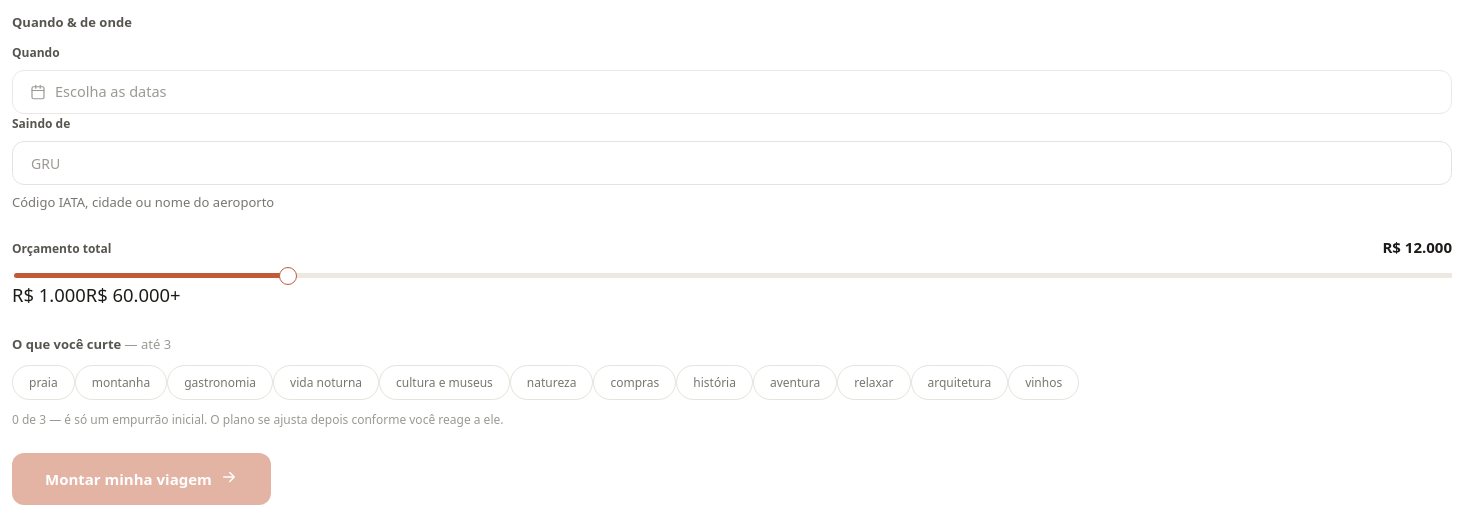
Scenario: AutoForm › desmarcar um gosto tira da conta
What coordinates should you click on to do the following:
click the button "praia"
I would click on:
 (43, 382)
Its box is [12,365,75,400].
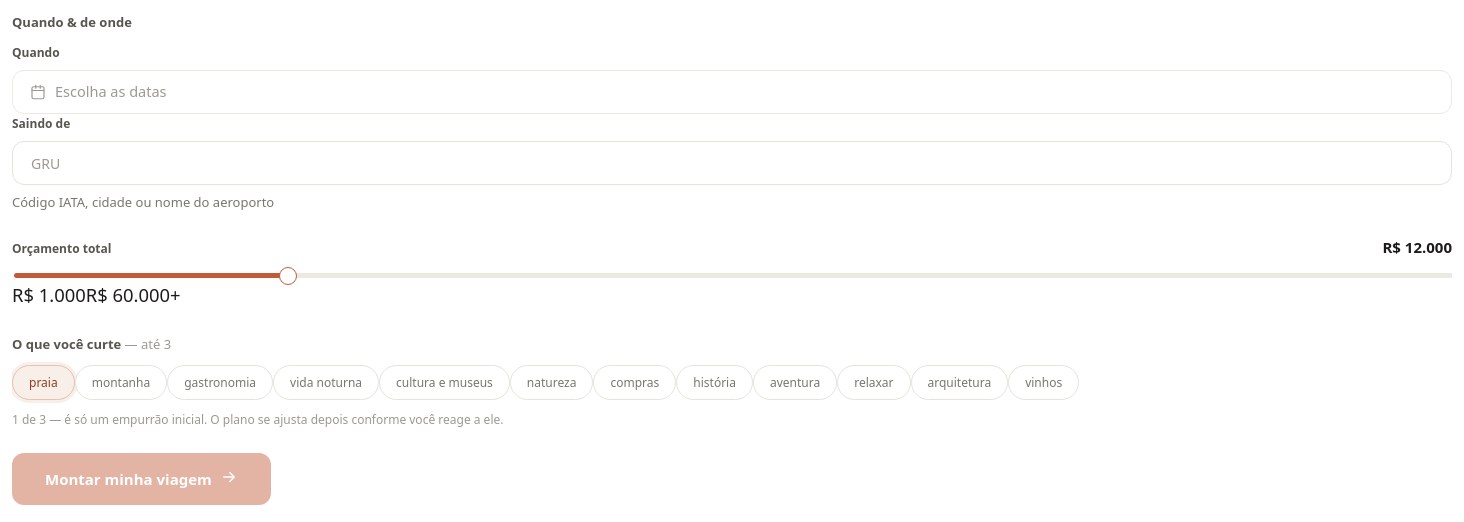
What coordinates should you click on to do the following:
click the button "praia"
I would click on:
 (43, 382)
Its box is [12,365,75,400].
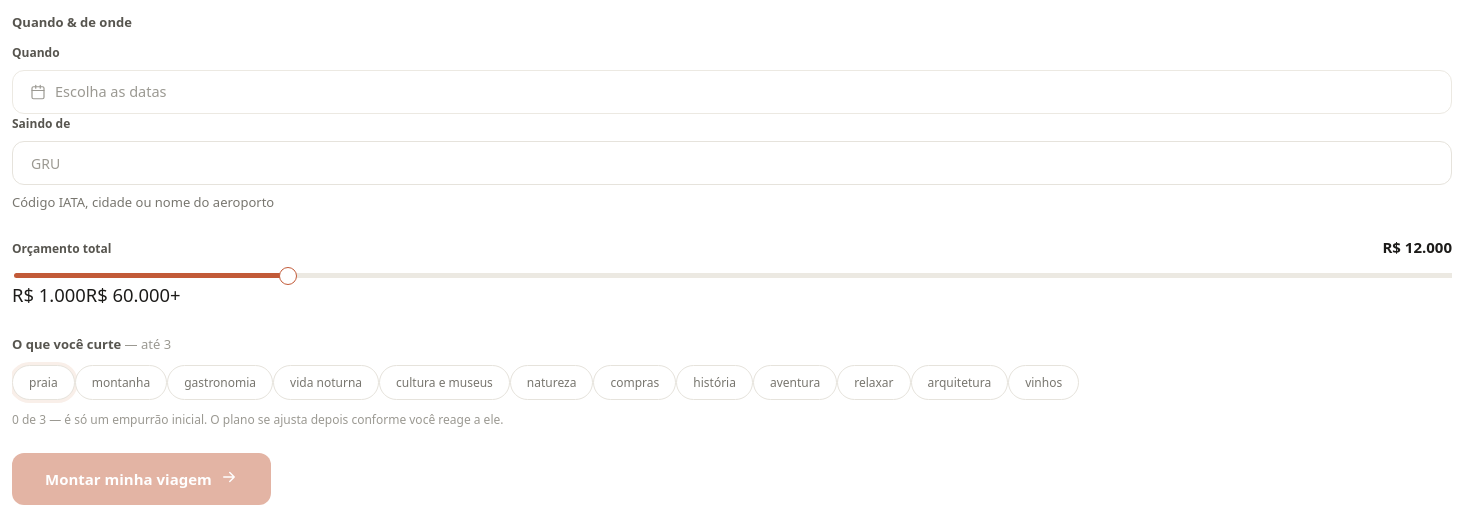
expect the text "0 de 3" is shown: met, box [12,411,504,428]
